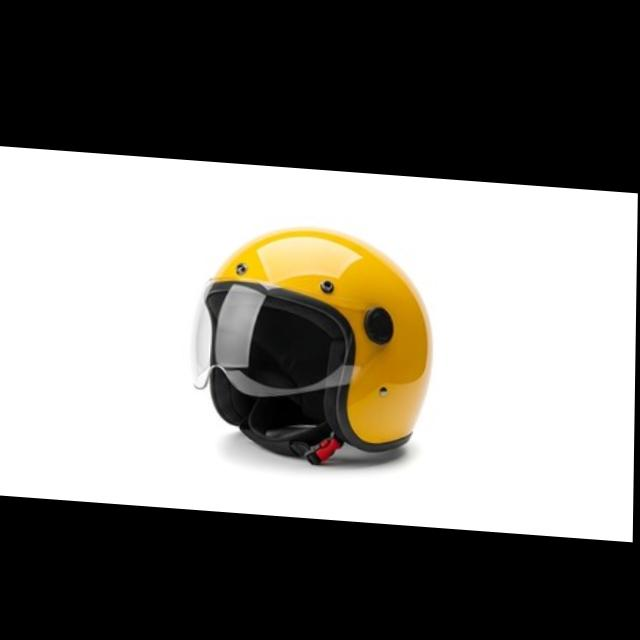motorcycle-helmets: (195, 227, 428, 463)
